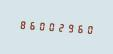eight: (17, 17, 26, 31)
nine: (67, 20, 76, 35)
six: (27, 17, 36, 32), (77, 21, 86, 36)
two: (57, 20, 66, 34)
zero: (37, 18, 46, 33), (47, 19, 56, 33), (87, 22, 96, 36)
